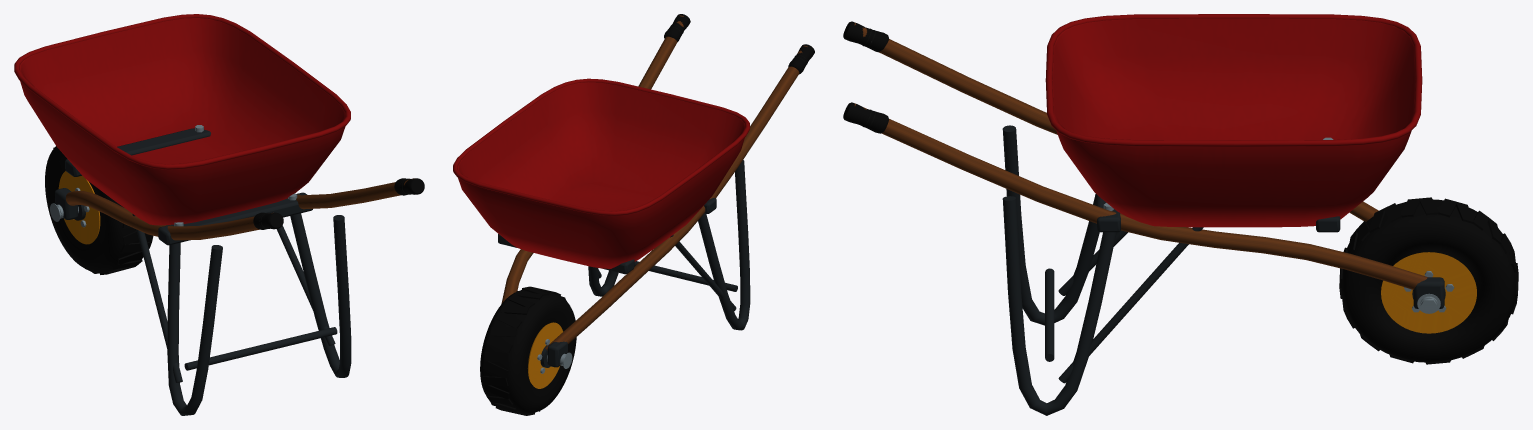
Rendered from SingleWheelbarrowFlatFree.gltf.
The picture shows the model from 3 angles, left to right: view 1: azimuth 30°, elevation 25°; view 2: azimuth 150°, elevation 25°; view 3: azimuth 270°, elevation 25°; orthographic projection. The views are drawn at different scales.
Parts seen in each view (by area): view 1: SingleWheelbarrowFlatFree__Body, SingleWheelbarrowFlatFree__Wheel_Front; view 2: SingleWheelbarrowFlatFree__Body, SingleWheelbarrowFlatFree__Wheel_Front; view 3: SingleWheelbarrowFlatFree__Body, SingleWheelbarrowFlatFree__Wheel_Front.
Boxes of the visible parts, x1,y1,x2,y2 form: SingleWheelbarrowFlatFree__Body: [14, 14, 424, 415]; SingleWheelbarrowFlatFree__Wheel_Front: [45, 146, 153, 274]; SingleWheelbarrowFlatFree__Body: [453, 14, 814, 368]; SingleWheelbarrowFlatFree__Wheel_Front: [480, 286, 576, 415]; SingleWheelbarrowFlatFree__Body: [843, 14, 1444, 415]; SingleWheelbarrowFlatFree__Wheel_Front: [1339, 197, 1518, 364].
Size of the model in its own units: 0.672 by 0.7455 by 1.48.
Materials: 1 (1 with a texture image).
